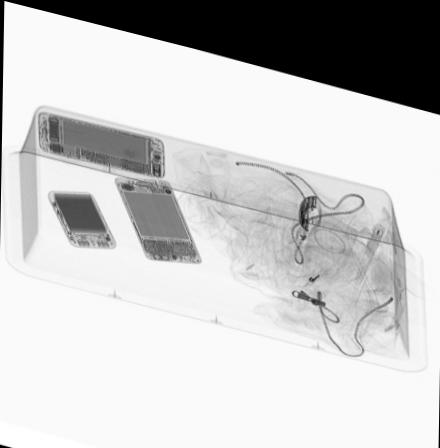Powerbank: (45, 186, 121, 245)
